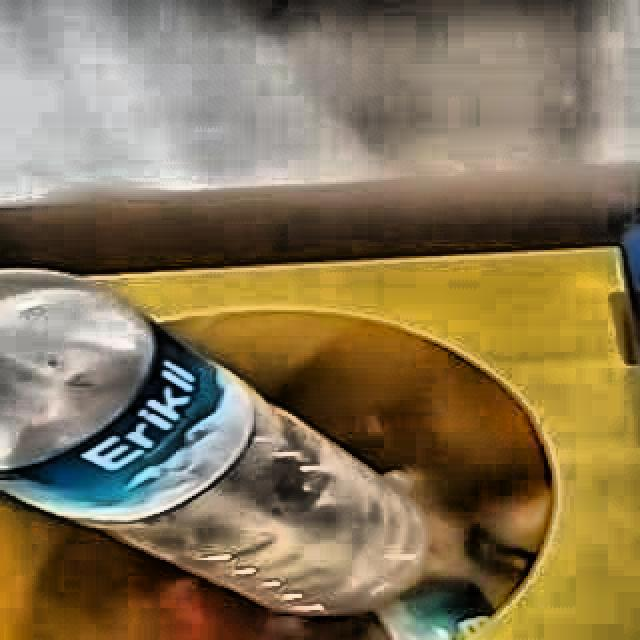plastic: (0, 271, 253, 527)
